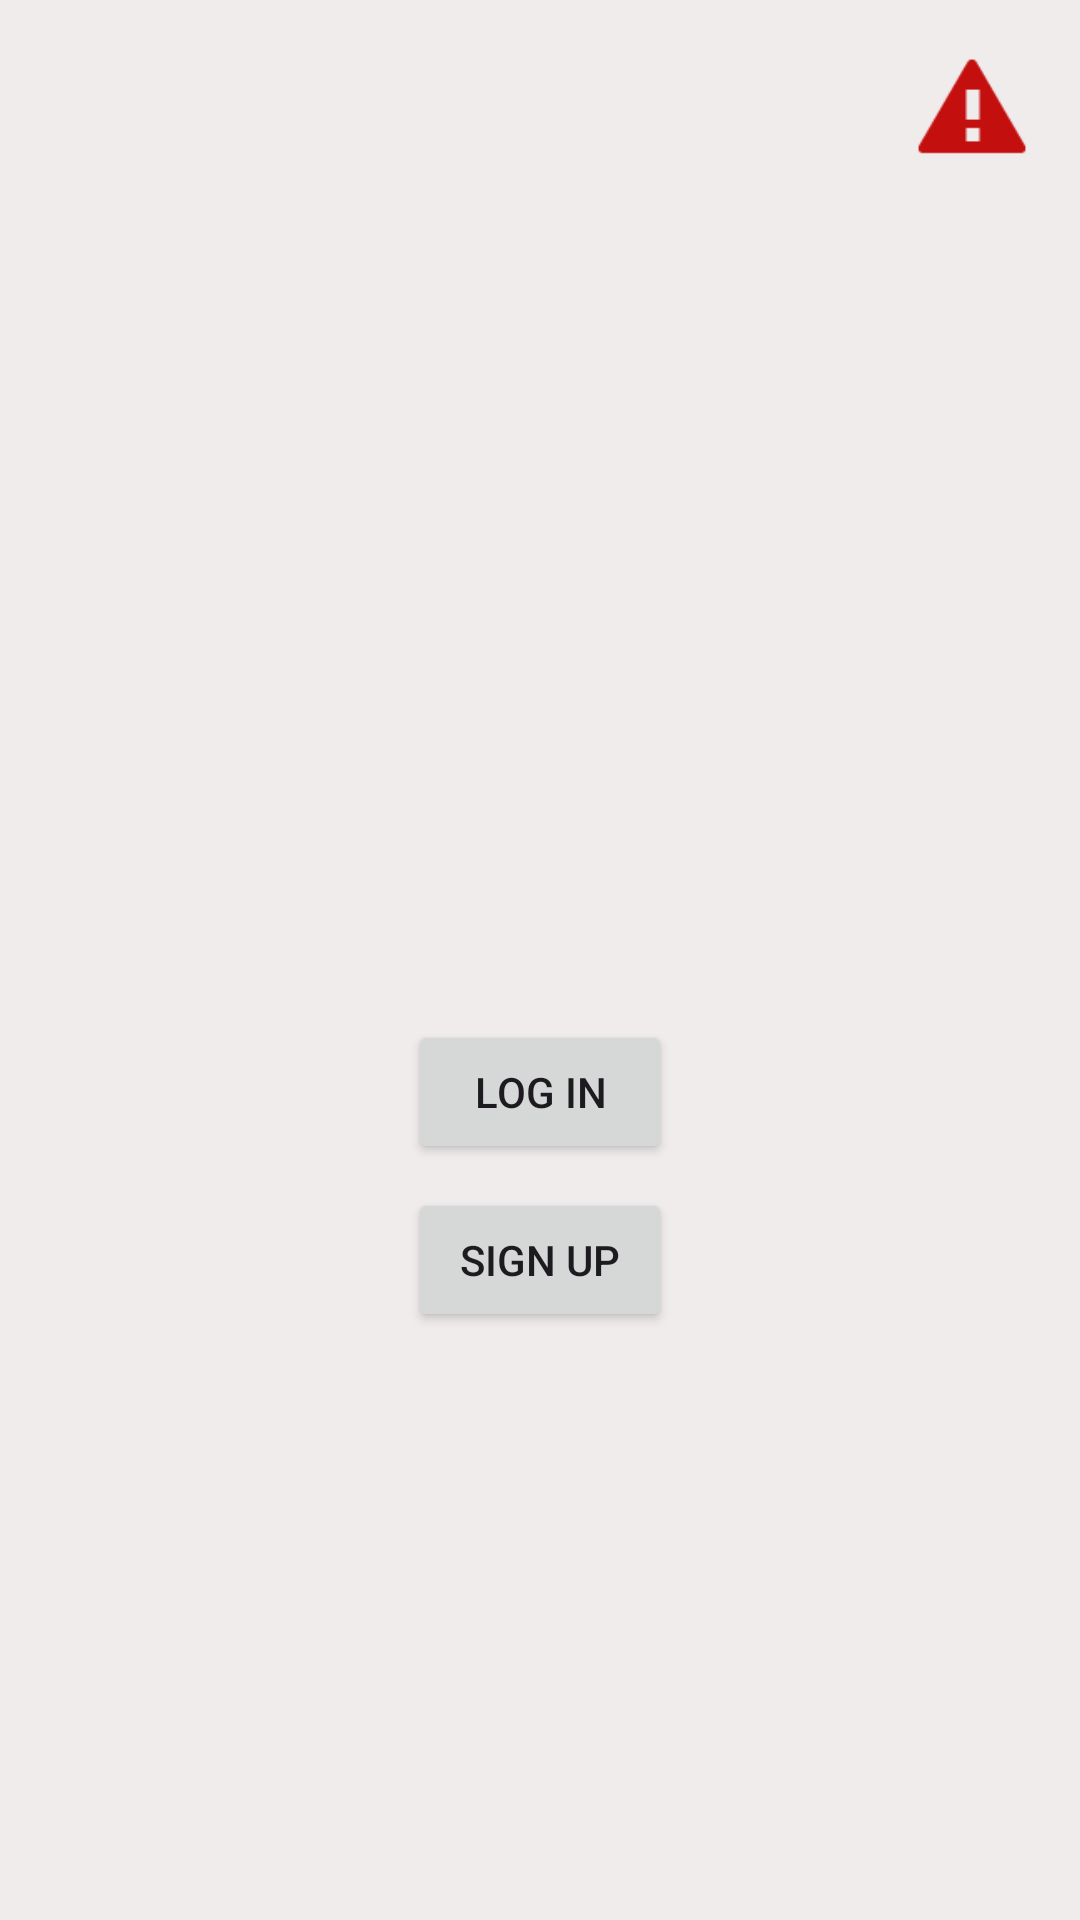

Locate icon controls on the screen. Image size 1080x1920, boxes as (x1, y1, x2, y2).
error: (918, 59, 1026, 154)
